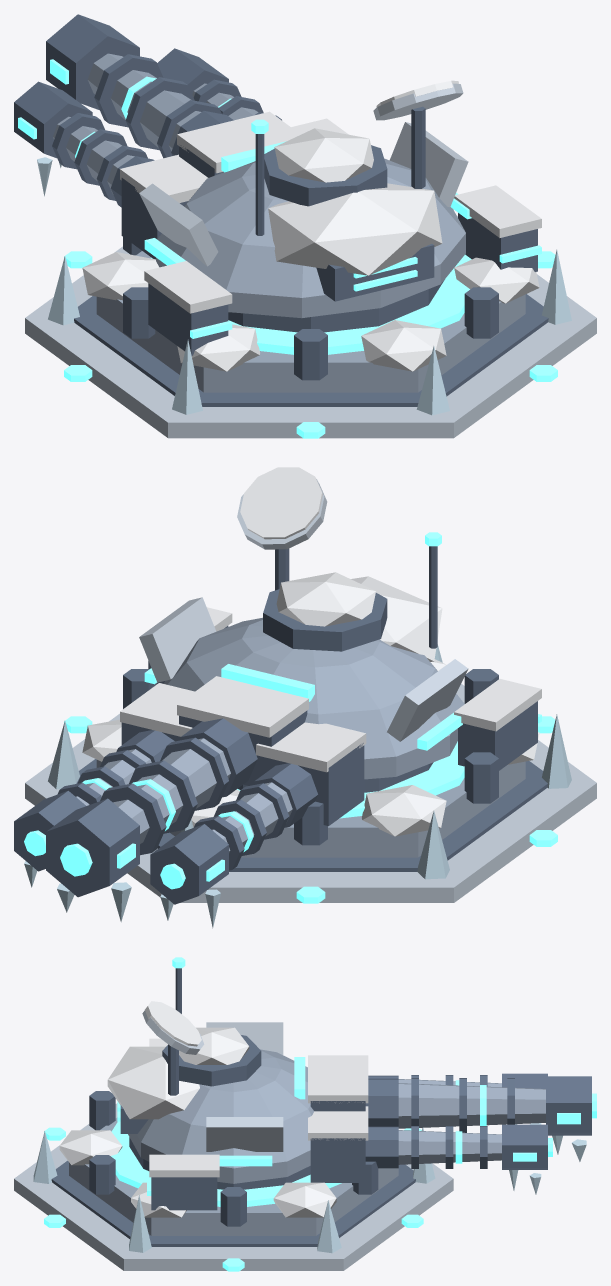
Rendered from turret_lvl5.glb.
3 views of the same model, one above another, from view 1: azimuth 30°, elevation 25°; view 2: azimuth 150°, elevation 25°; view 3: azimuth 270°, elevation 25° (orthographic). The views are drawn at different scales.
Visible parts, largest first — view 1: BaseTier_70, Dome_05, SnowBlanket_80, Base_01, BaseSkirt_02, MuzzleBrake_43, SnowCupola_93, Neon_BaseRing_03, Pivot_04, SnowCap_36, SnowMound_85, Cupola_69 (+36 smaller); view 2: Dome_05, BaseTier_70, Base_01, MuzzleBrake_43, BaseSkirt_02, SnowCap_36, SnowDish_96, SnowCupola_93, MuzzleBrake_15, Cupola_69, ArmorPlate_56, SnowCap_08 (+36 smaller); view 3: BaseTier_70, Dome_05, Base_01, BaseSkirt_02, BarrelTube_38, SnowBlanket_80, ArmorPlate_56, SnowCap_36, BarrelMount_21, MuzzleBrake_43, BarrelTube_24, SaddleBag_67 (+29 smaller).
Boxes of the visible parts, box(x1,y1,x2,y2) form: BaseTier_70: box(25, 215, 596, 438); Dome_05: box(156, 158, 465, 318); SnowBlanket_80: box(268, 183, 442, 275); Base_01: box(96, 251, 525, 392); BaseSkirt_02: box(74, 294, 548, 406); MuzzleBrake_43: box(46, 14, 139, 109); SnowCupola_93: box(274, 128, 373, 182); Neon_BaseRing_03: box(151, 254, 471, 354); Pivot_04: box(228, 279, 444, 332); SnowCap_36: box(177, 111, 300, 173); SnowMound_85: box(361, 320, 446, 371); Cupola_69: box(264, 145, 387, 206); Dome_05: box(163, 617, 464, 779); BaseTier_70: box(25, 683, 596, 902); Base_01: box(96, 760, 525, 857); MuzzleBrake_43: box(46, 798, 139, 897); BaseSkirt_02: box(76, 759, 547, 871); SnowCap_36: box(177, 676, 308, 737); SnowDish_96: box(240, 467, 322, 539); SnowCupola_93: box(276, 572, 375, 626); MuzzleBrake_15: box(150, 824, 228, 904); Cupola_69: box(263, 589, 387, 651); ArmorPlate_56: box(139, 597, 216, 682); SnowCap_08: box(256, 722, 366, 772); BaseTier_70: box(14, 1103, 453, 1270); Dome_05: box(128, 1049, 314, 1183); Base_01: box(69, 1117, 398, 1235); BaseSkirt_02: box(51, 1160, 415, 1246); BarrelTube_38: box(398, 1083, 545, 1128); SnowBlanket_80: box(107, 1046, 199, 1119); ArmorPlate_56: box(206, 1117, 283, 1151); SnowCap_36: box(308, 1060, 368, 1103); BarrelMount_21: box(310, 1138, 365, 1182); MuzzleBrake_43: box(546, 1076, 591, 1135); BarrelTube_24: box(398, 1130, 501, 1164); SaddleBag_67: box(151, 1177, 217, 1210).
Bounding box in the file's own units: 5.11 × 2.75 × 6.9.
